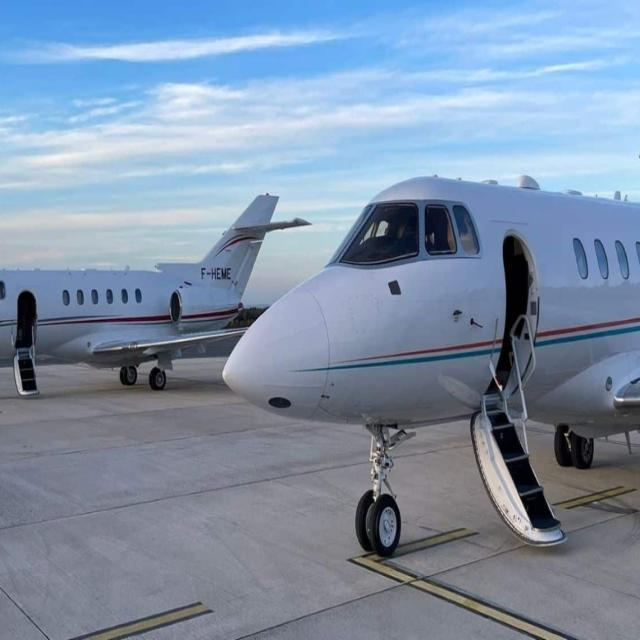jet: (109, 61, 640, 640)
